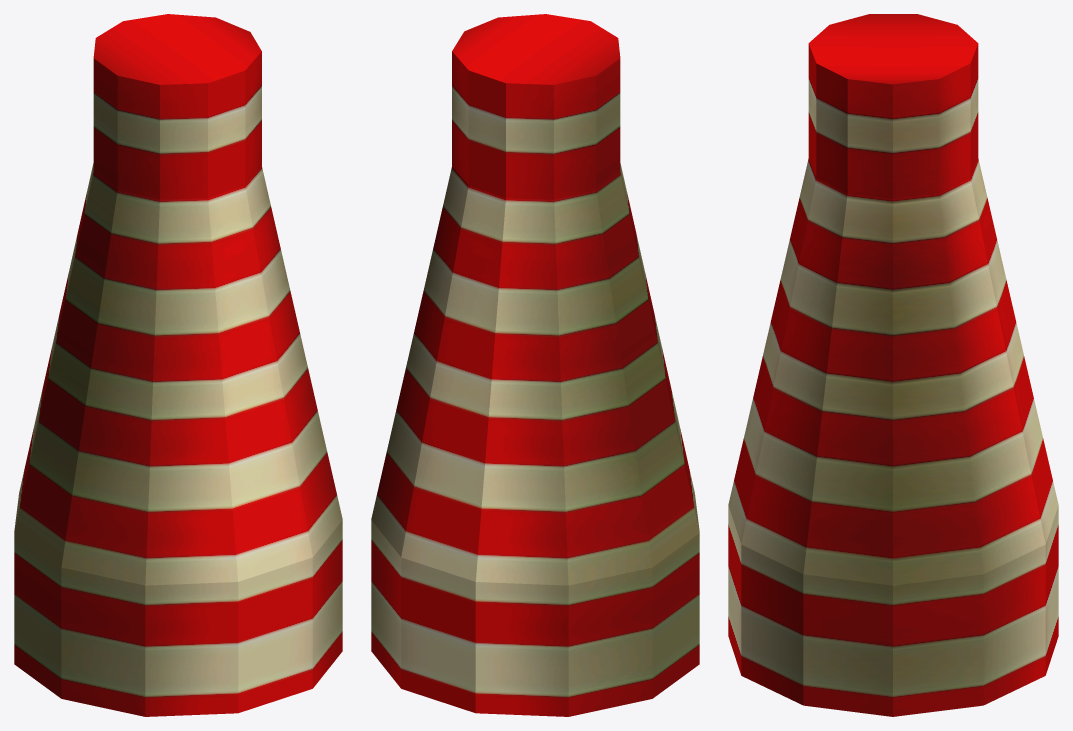
File: GolfMill.glb
The picture shows the model from 3 angles, left to right: view 1: azimuth 30°, elevation 25°; view 2: azimuth 150°, elevation 25°; view 3: azimuth 270°, elevation 25°; orthographic projection.
Visible parts, largest first — view 1: GolfMill; view 2: GolfMill; view 3: GolfMill.
Boxes of the visible parts, x1,y1,x2,y2 form: GolfMill: (14,14,342,716); GolfMill: (371,14,699,716); GolfMill: (728,14,1058,716).
Size of the model in its own units: 115 by 232 by 116.
Materials: 1 (1 with a texture image).
